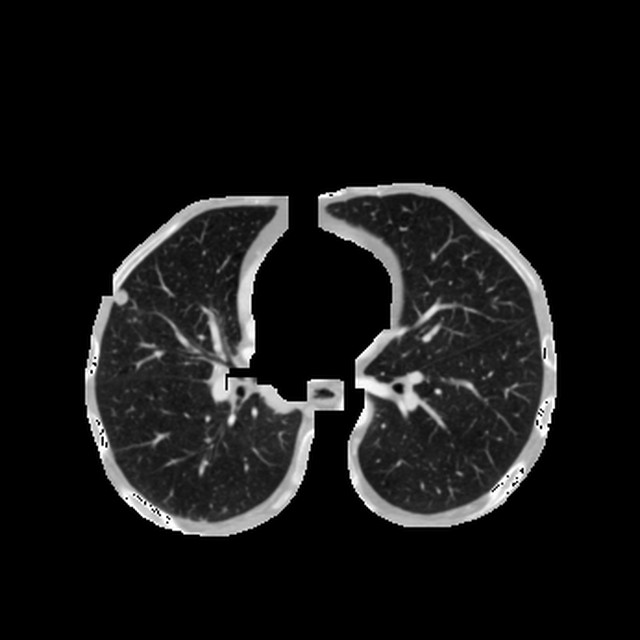PN: (113, 290, 128, 305)
